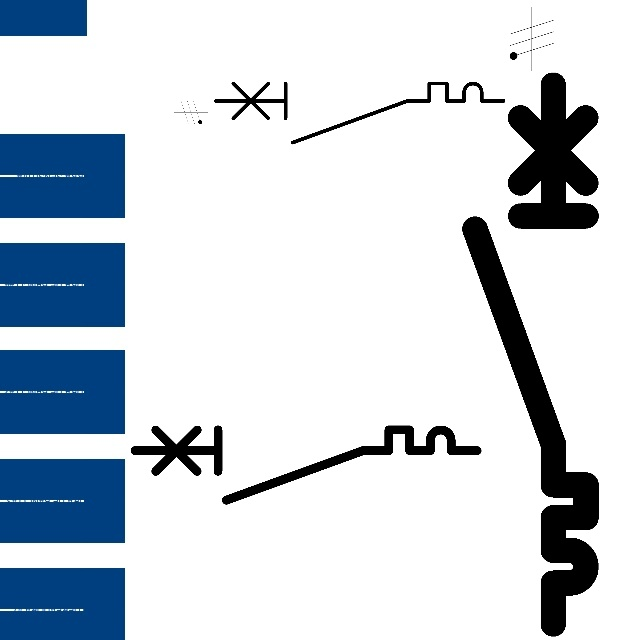interruptor_termomagnetico: (461, 71, 600, 638), (126, 421, 486, 509), (208, 76, 511, 150)
